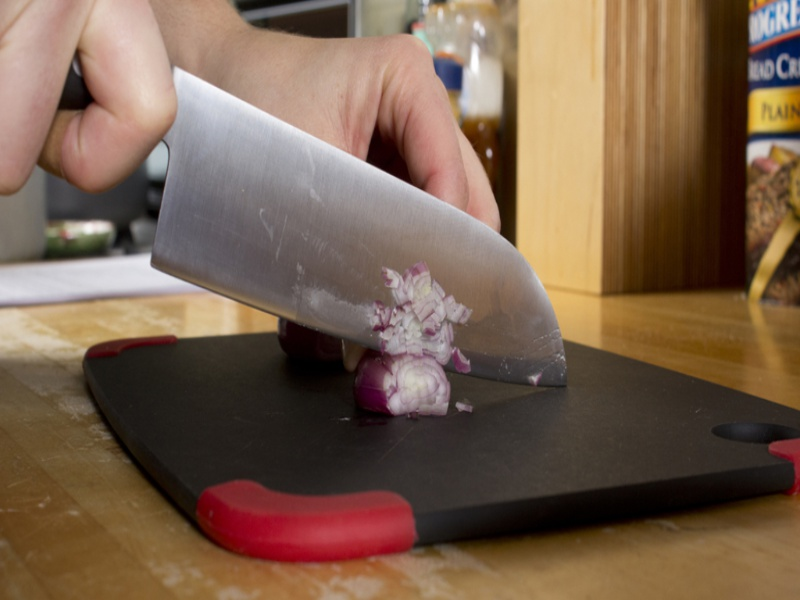knife: (3, 8, 571, 423)
